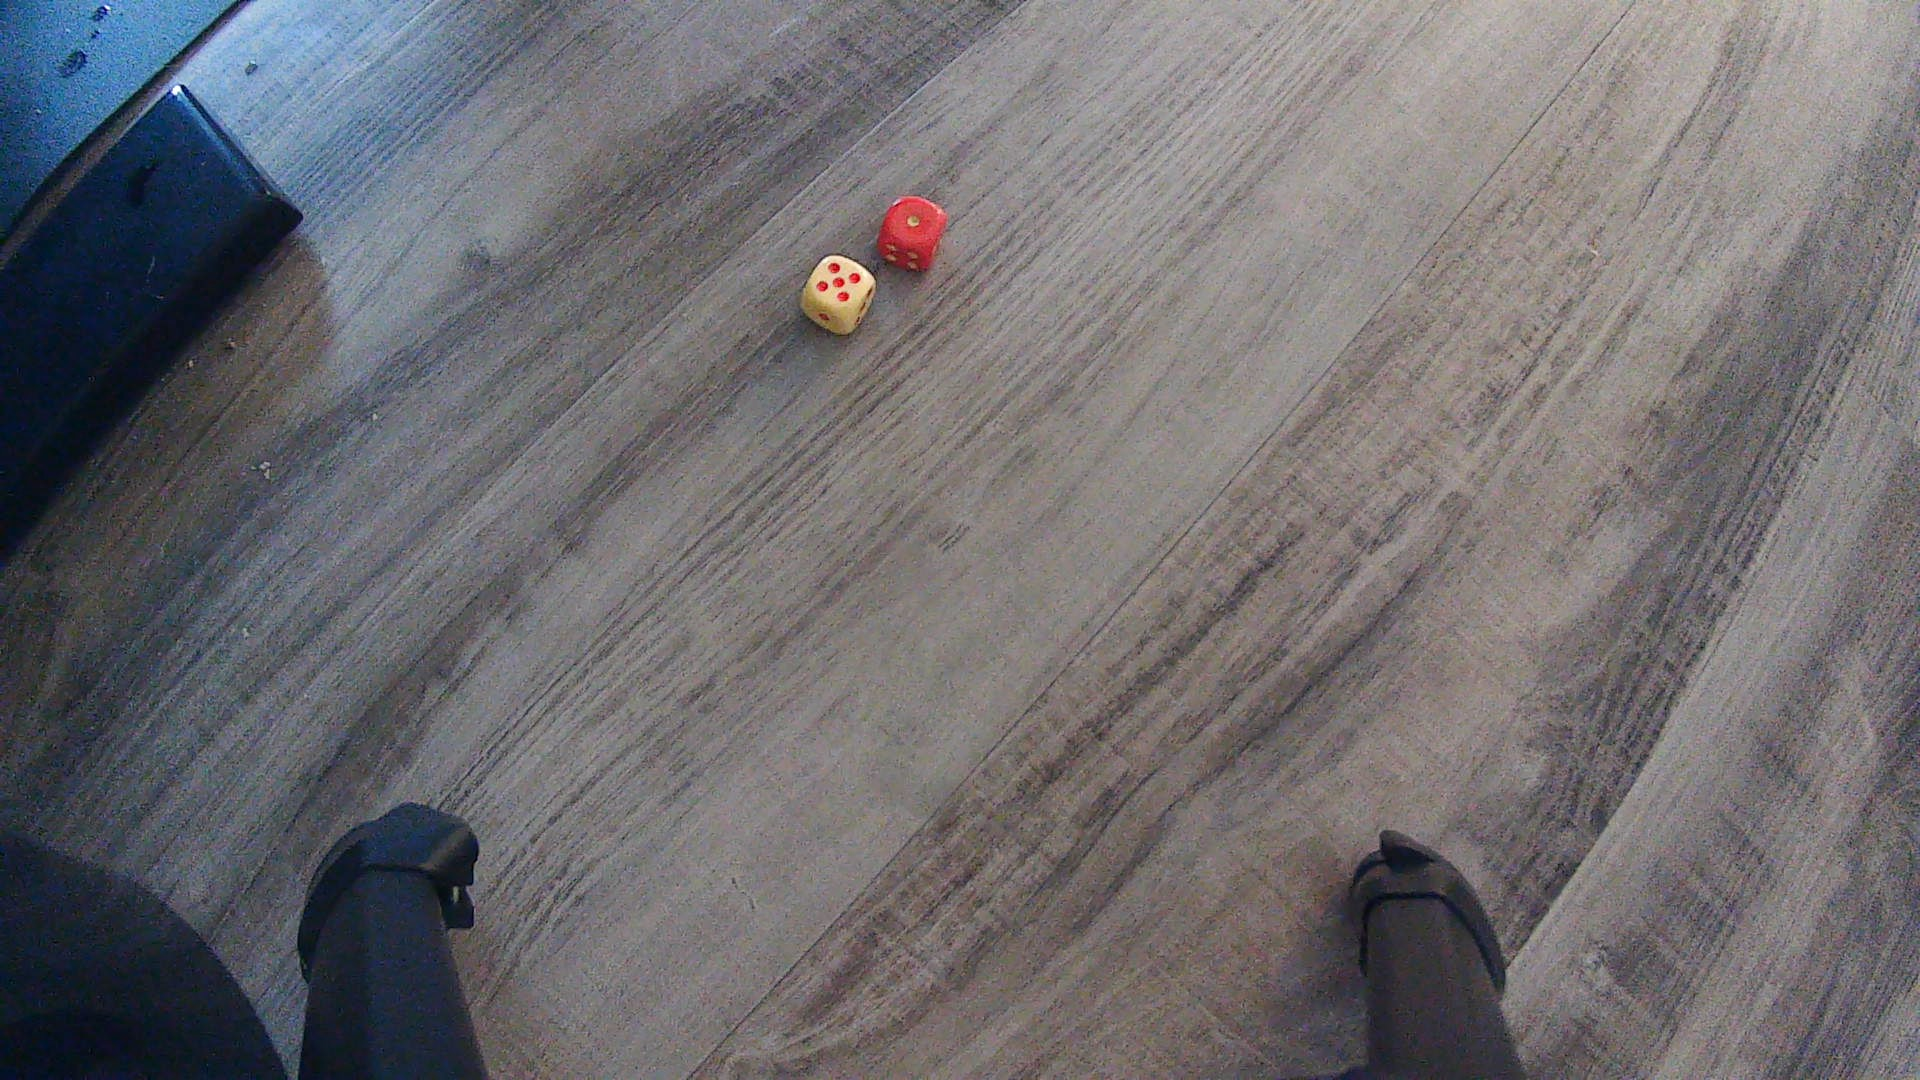die: (799, 253, 878, 336), (876, 195, 949, 274)
